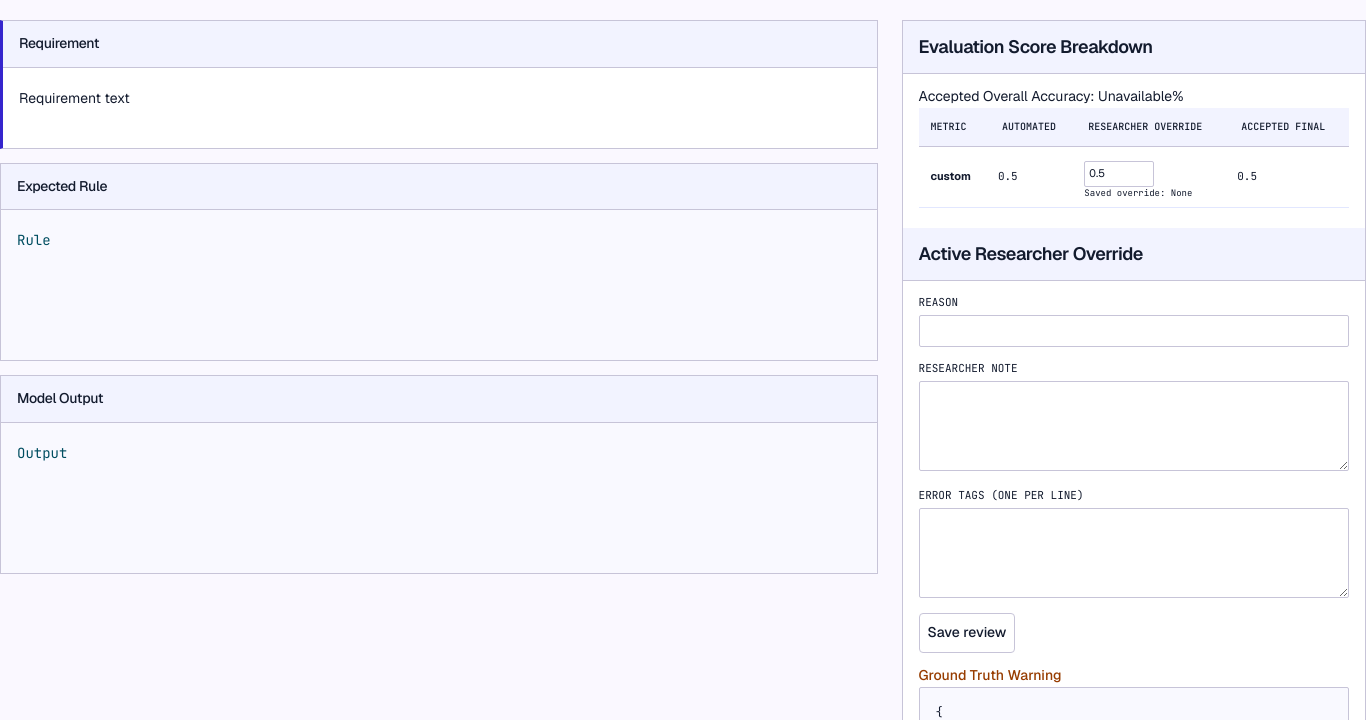
Scenario: notes-only review does not fabricate metric overrides and respects custom scale
Type "Research note" into the text box named "Review note" at (1134, 426), box [919,381,1349,471]
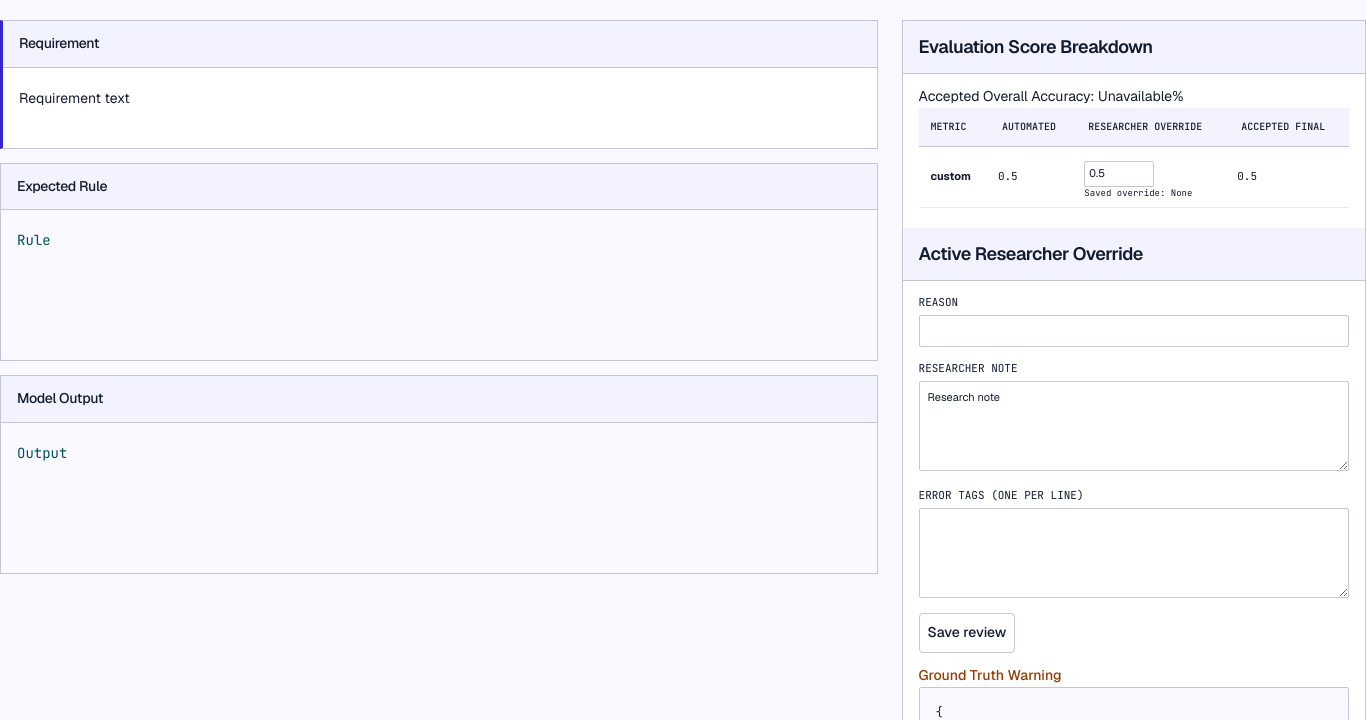
Click the button "Save review" at (967, 633), box [919,613,1015,653]
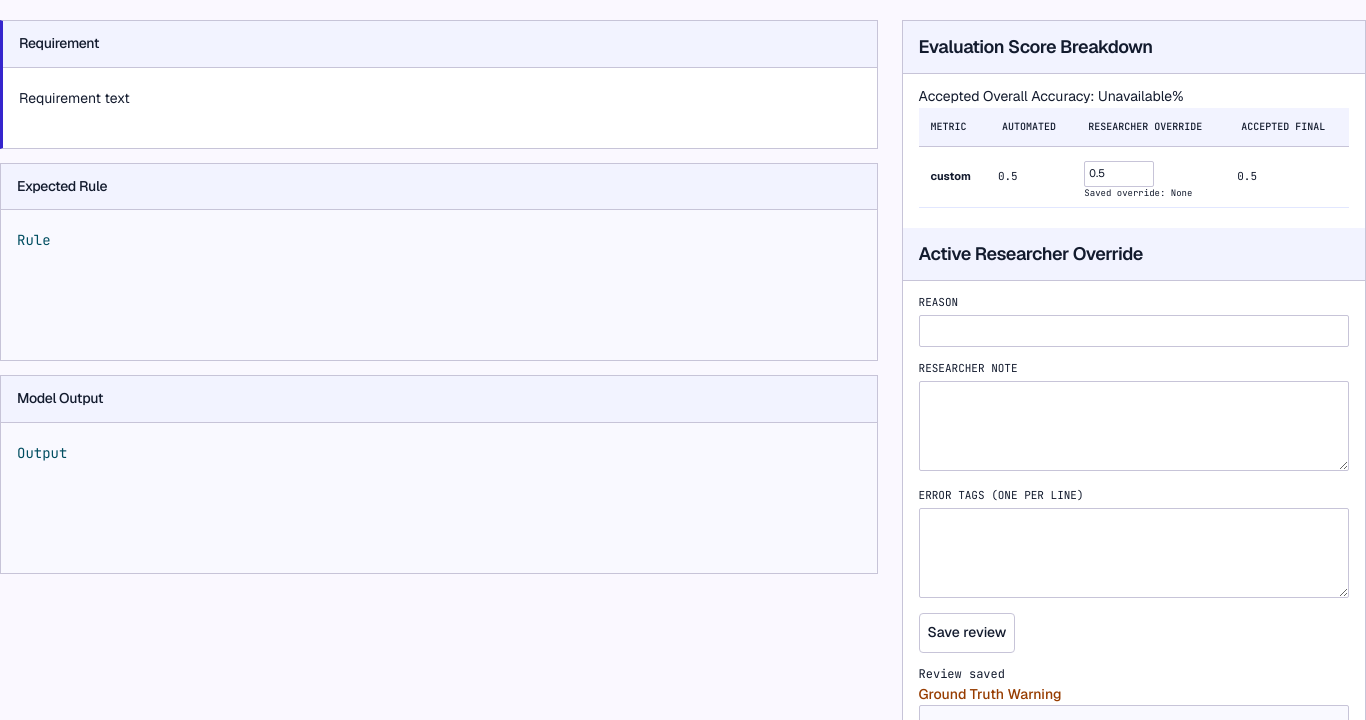
Expected: the text "Review saved" is shown, [919,666,1005,682]
